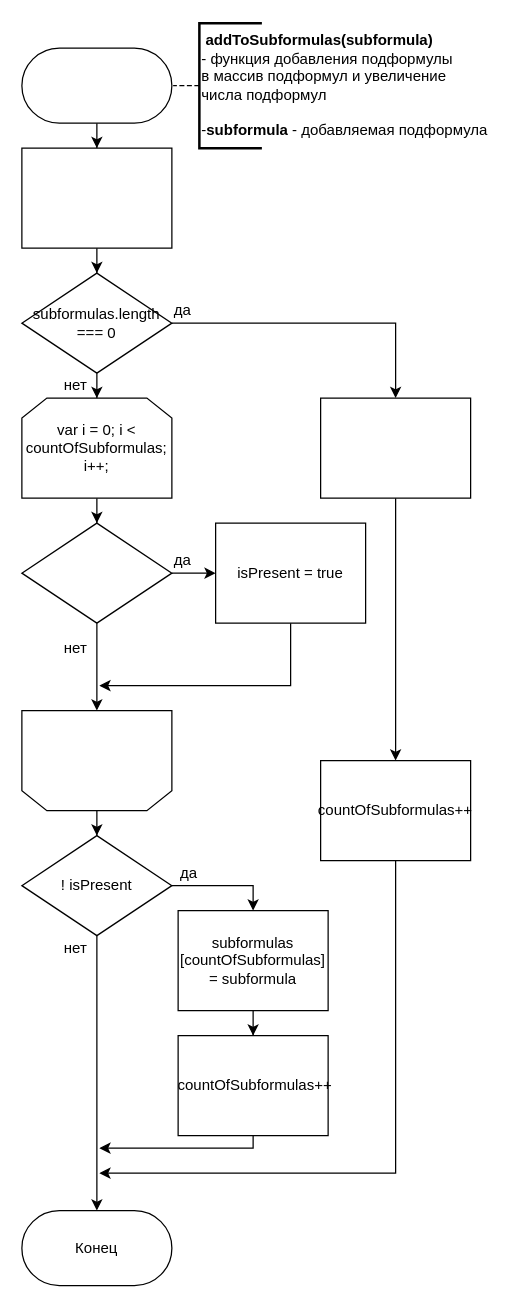
Some shapes in this 510 by 1308 pixel diagram are drawn without their labels. The centre of each missing label's shape, as x and y in pixels:
i++: pixel 96 760
subformula === subformulas[i]: pixel 96 572
subformulas[0] = subformula;: pixel 395 447
var isPresent = false;: pixel 96 197
Начало: pixel 96 85
